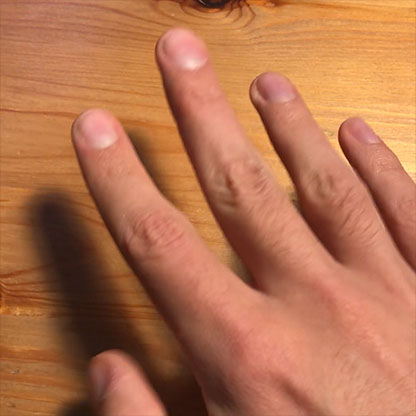fingertip: (68, 103, 124, 157), (157, 28, 212, 77), (251, 65, 299, 110), (81, 359, 119, 405), (344, 112, 382, 150)
